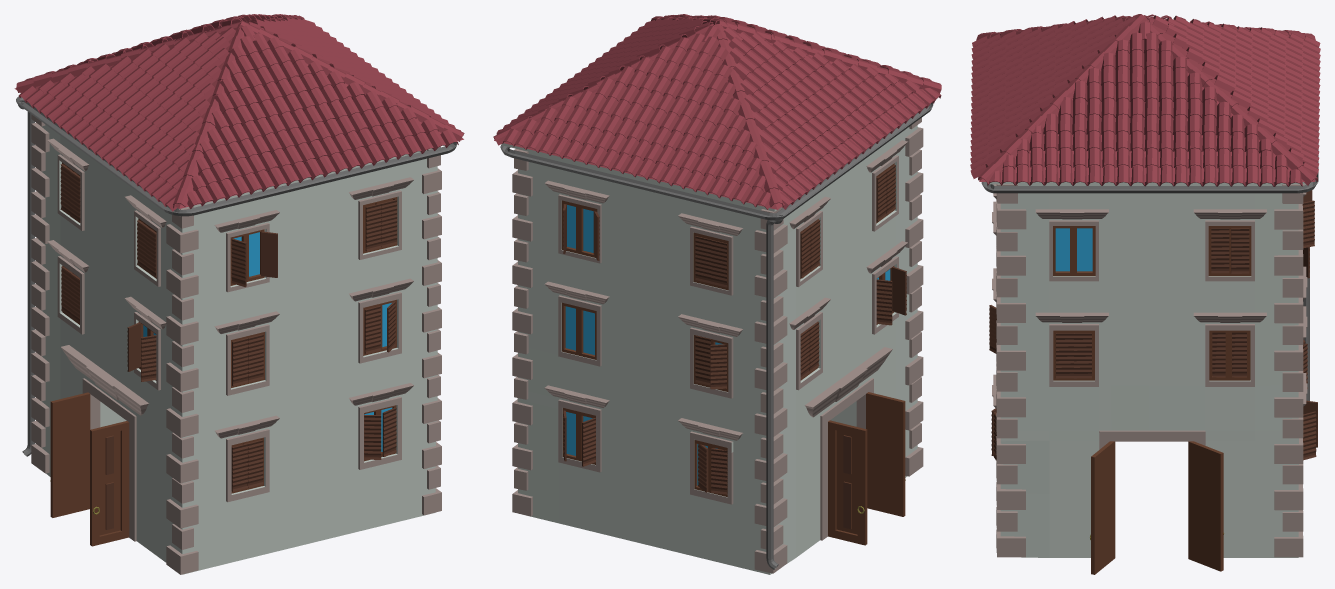
File: house01opened.fbx
3 renders of one model, left to right at view 1: azimuth 30°, elevation 25°; view 2: azimuth 150°, elevation 25°; view 3: azimuth 270°, elevation 25°, orthographic. The views are drawn at different scales.
Parts seen in each view (by area): view 1: _house01opened; view 2: _house01opened; view 3: _house01opened.
Part boxes in pixels (x1,y1,x2,y2): _house01opened: (14, 14, 464, 574); _house01opened: (493, 14, 941, 574); _house01opened: (970, 14, 1320, 574).
Size of the model in its own units: 101 by 112 by 153.
